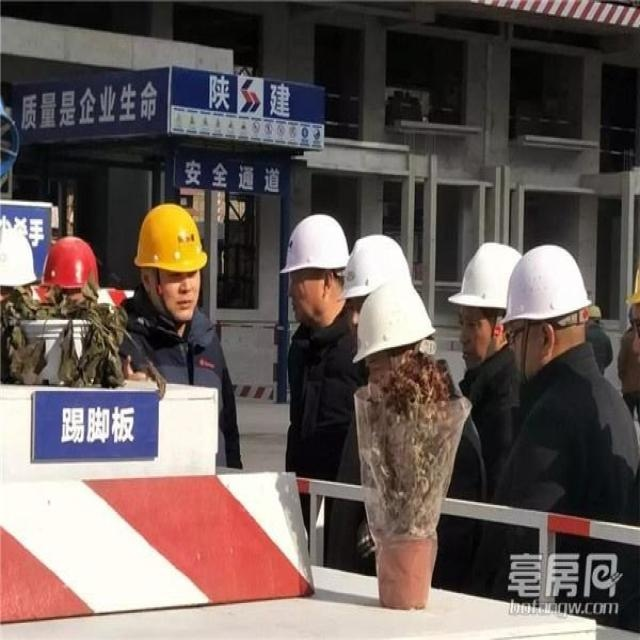Con_Casco: (135, 204, 209, 318)
